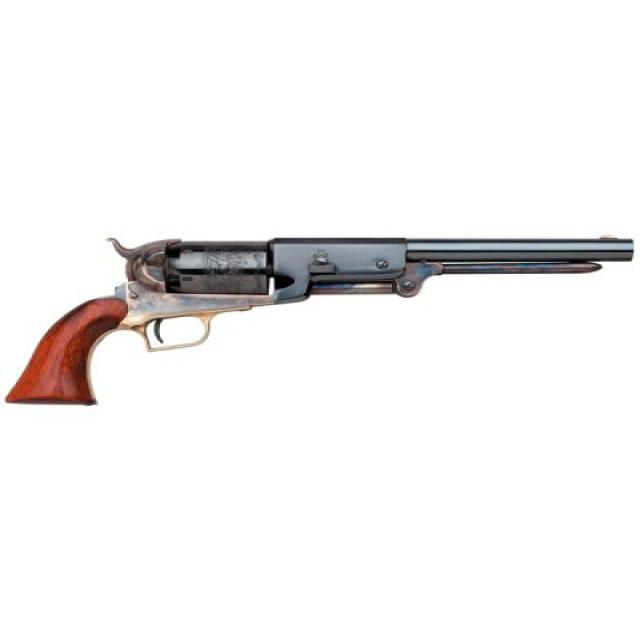HandGun: (6, 237, 637, 406)
